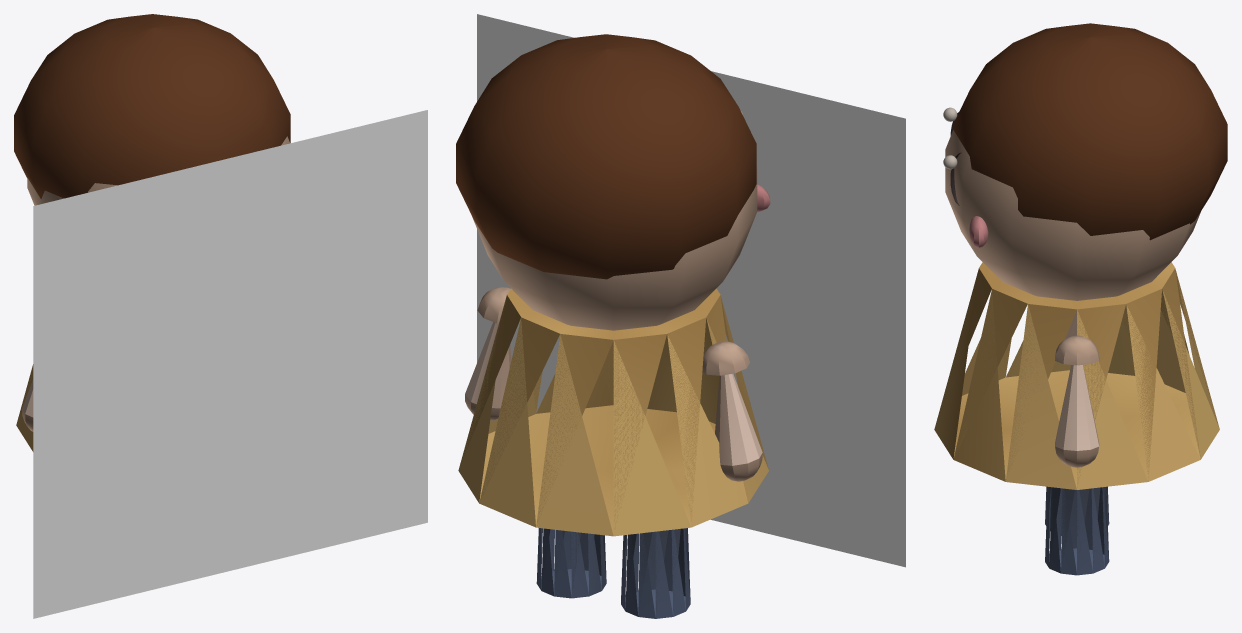
3 views of the same model, side by side, from view 1: azimuth 30°, elevation 25°; view 2: azimuth 150°, elevation 25°; view 3: azimuth 270°, elevation 25° (orthographic). The views are drawn at different scales.
Parts seen in each view (by area): view 1: pet_p69207944; view 2: pet_p69207944; view 3: pet_p69207944.
Boxes of the visible parts, bbox=[...] form: pet_p69207944: bbox=[14, 14, 427, 618]; pet_p69207944: bbox=[456, 14, 905, 618]; pet_p69207944: bbox=[934, 23, 1227, 575].
Size of the model in its own units: 0.51 by 0.625 by 0.3287.
